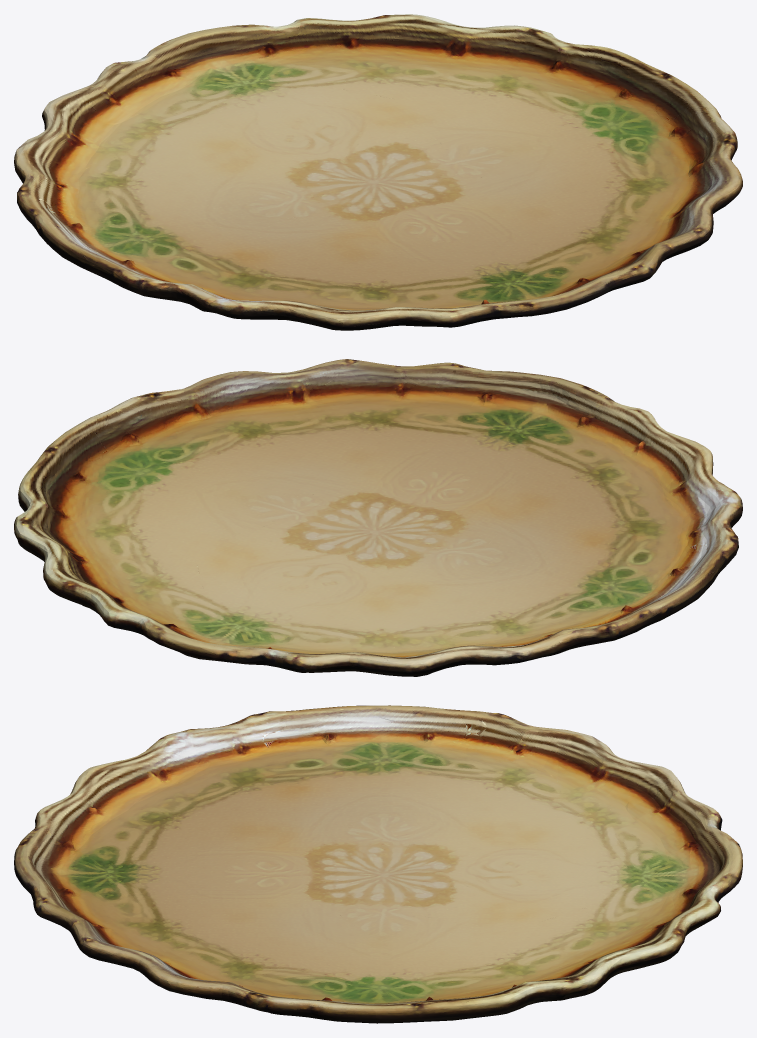
File: ceramic-wedding-platter-used-rustic-worn.jpeg.glb
3 renders of one model, top to bottom at view 1: azimuth 30°, elevation 25°; view 2: azimuth 150°, elevation 25°; view 3: azimuth 270°, elevation 25°, orthographic.
Parts seen in each view (by area): view 1: world; view 2: world; view 3: world.
Part boxes in pixels (<box>): world: <box>14,14,742,330</box>; world: <box>14,359,742,676</box>; world: <box>14,705,742,1023</box>.
Size of the model in its own units: 0.9969 by 0.0387 by 1.
Materials: 1 (1 with a texture image).
